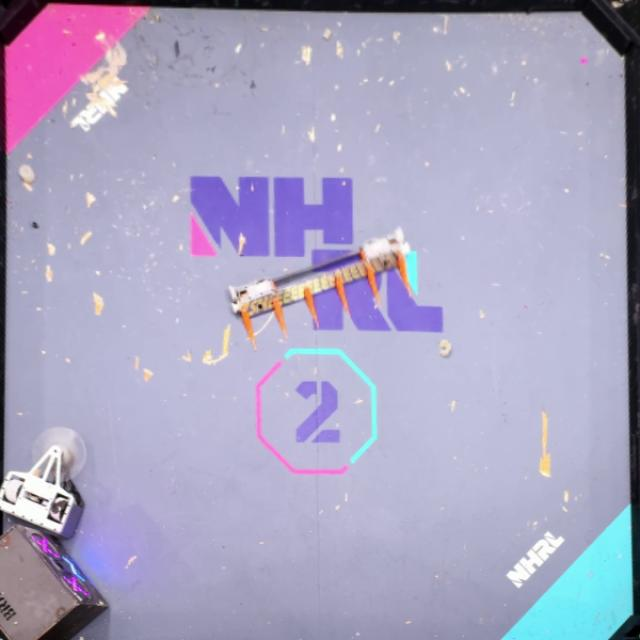housebot: (0, 525, 112, 640)
robot: (228, 225, 410, 341), (0, 425, 86, 540)
